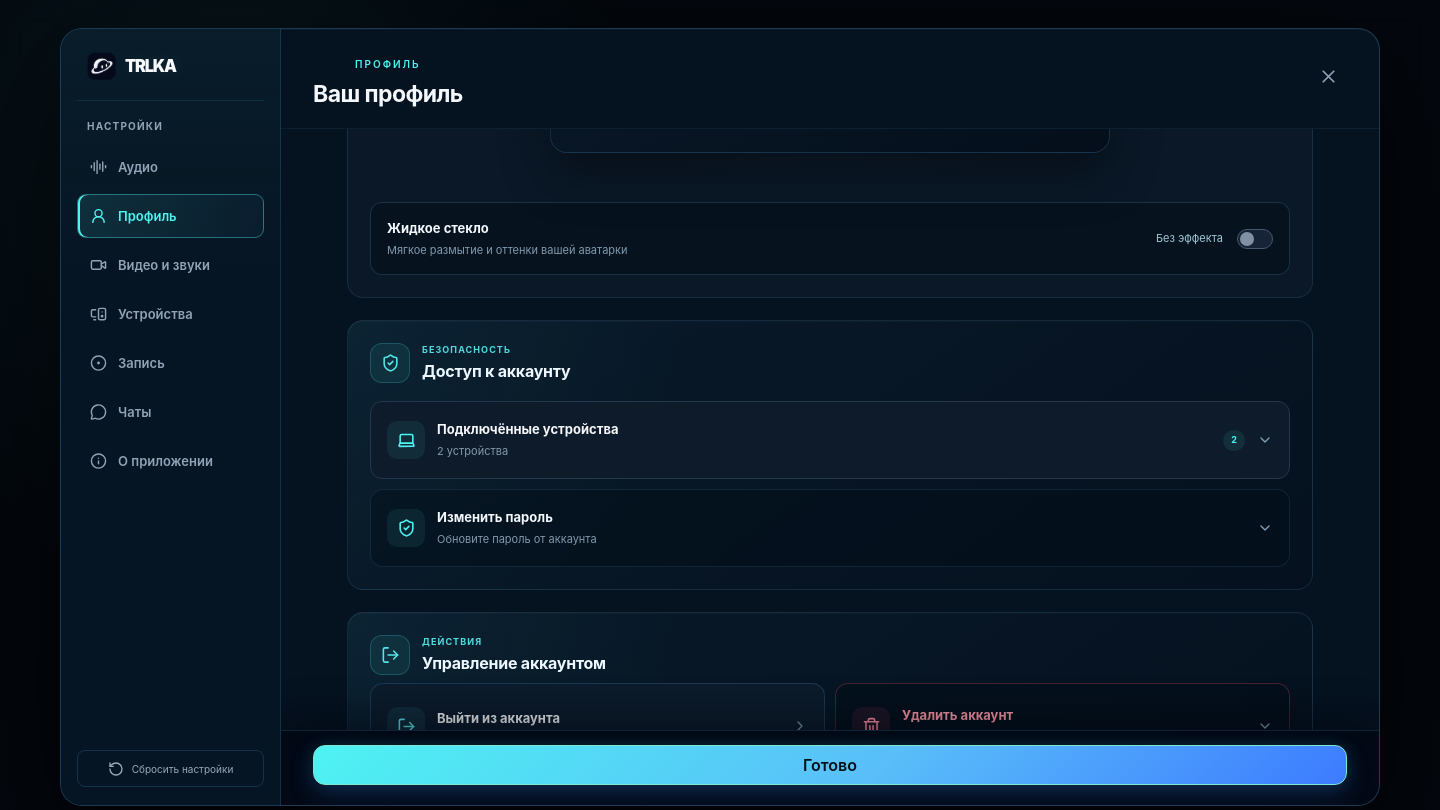
it: SettingsPanel profile actions › shows active account devices with the current session marked
(page scrolled)
Expected: the text "2 устройства" is shown, [437,444,508,458]
Click the text "Подключённые устройства".
click(528, 429)  # box [437,421,618,437]
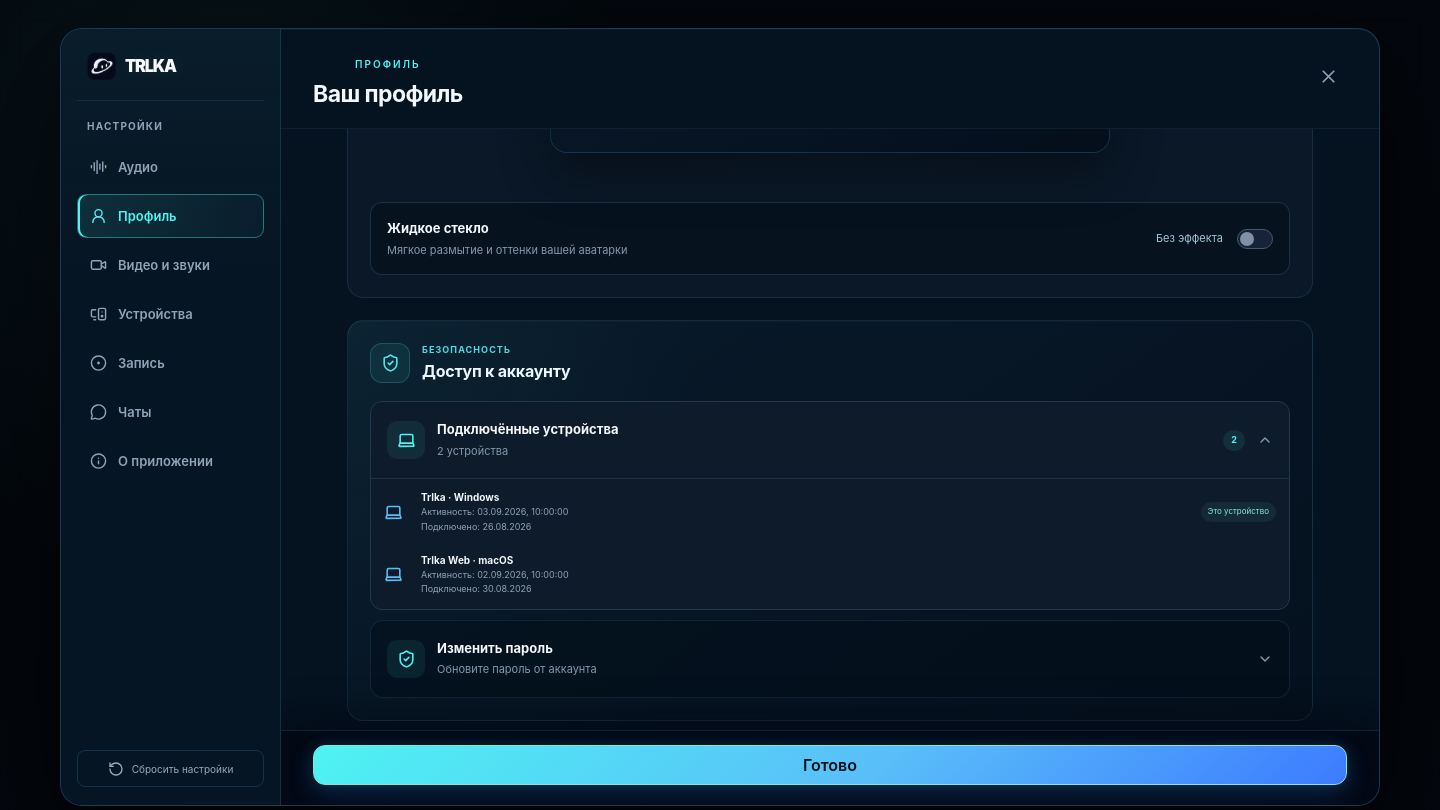
Result: the text "Trlka · Windows" is shown at [421,492,500,504]
Result: the text "Это устройство" is shown at [1201,502,1276,522]
Result: the text "Trlka Web · macOS" is shown at [421,554,513,566]
